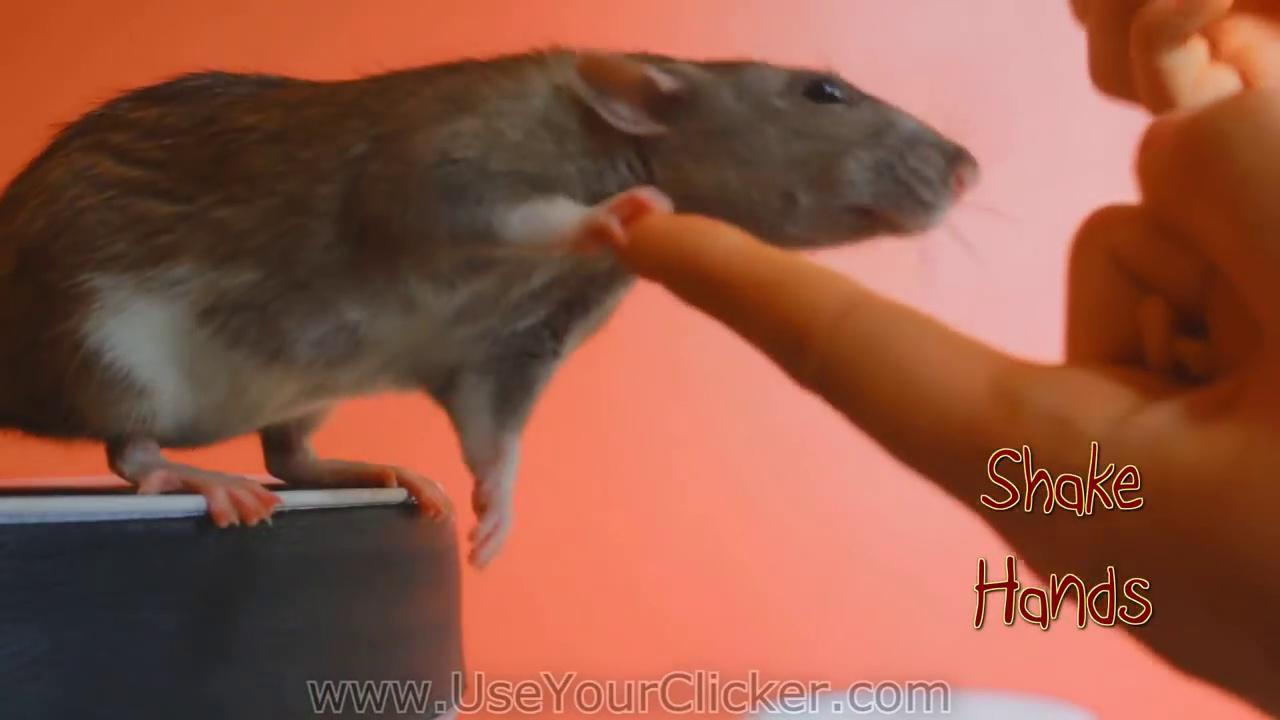rat: (0, 50, 984, 570)
